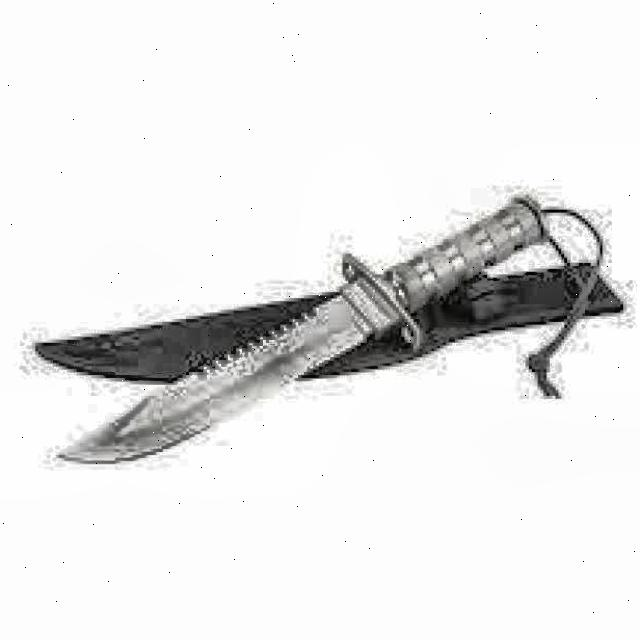knife: (68, 192, 552, 468)
